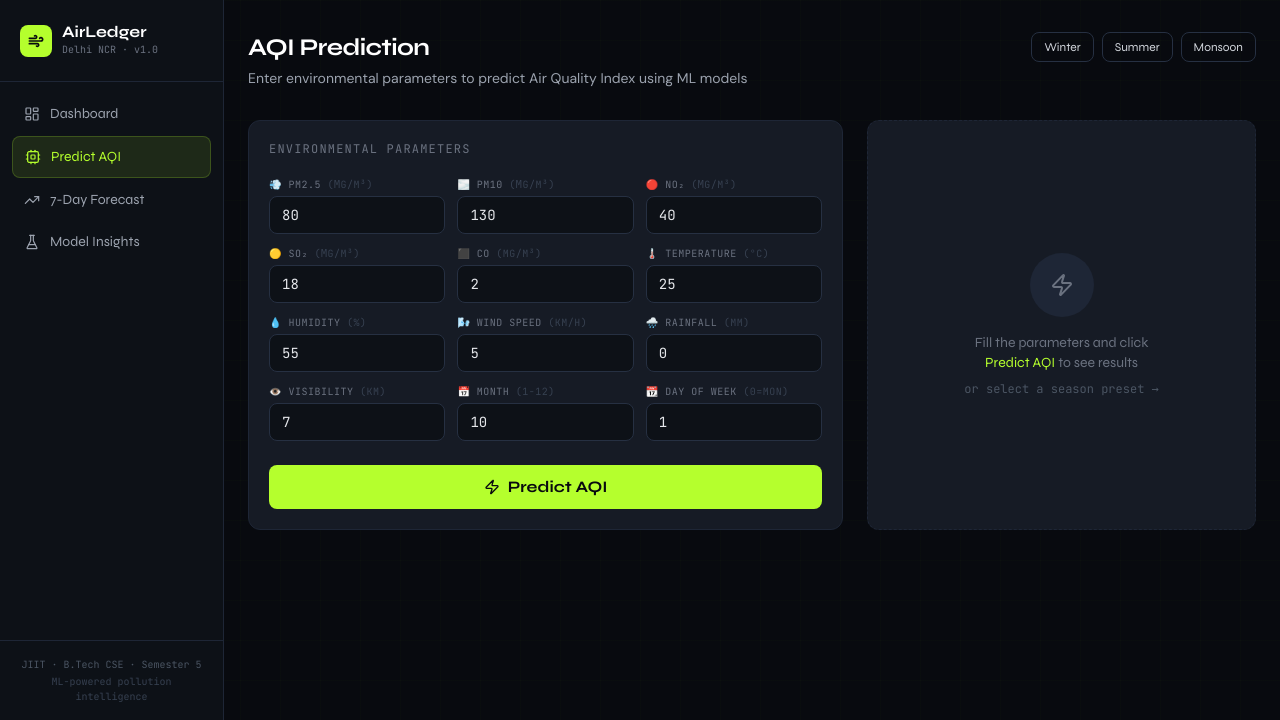
AirLedger pages › shows prediction progress and a request error
Later steps or results of the test are not shown.
What coordinates should you click on to do the following:
click the button "Predict AQI"
I would click on:
 (546, 487)
Its box is x1=269 y1=465 x2=822 y2=509.
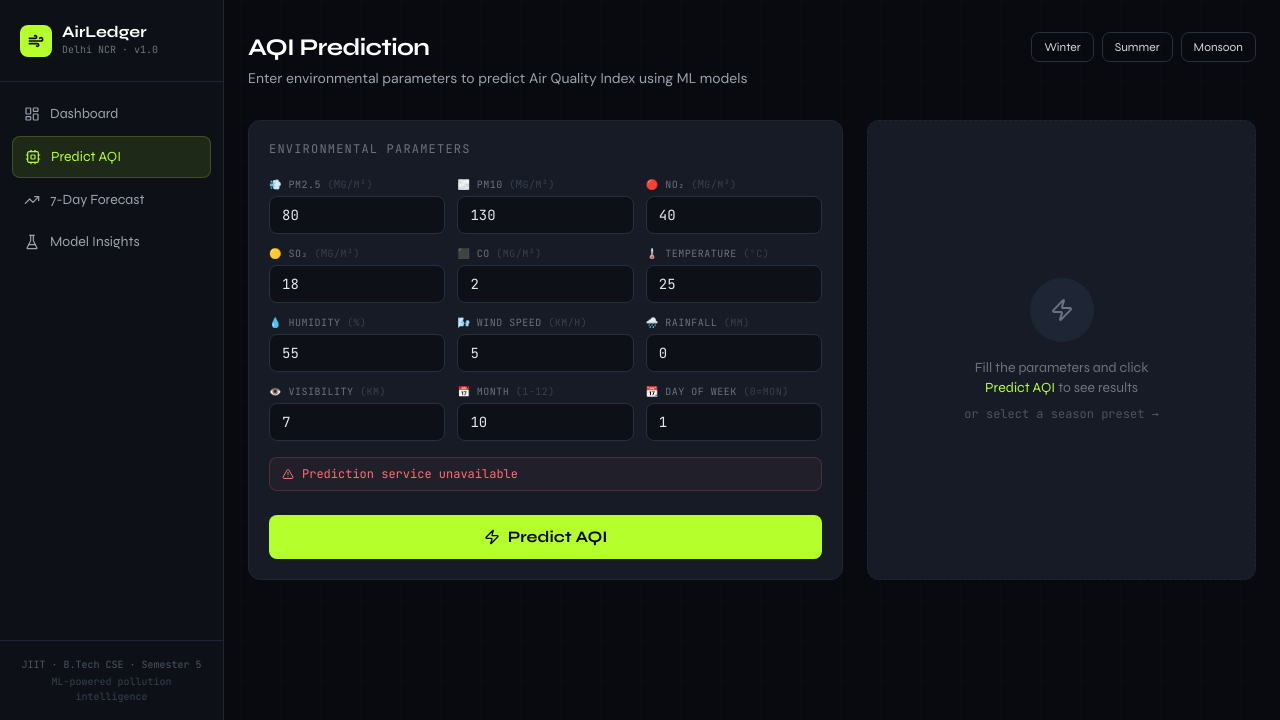
Expected: the button "Predict AQI" is enabled, x1=269 y1=515 x2=822 y2=559
Expected: the message reads "Prediction service unavailable", x1=302 y1=466 x2=518 y2=482
